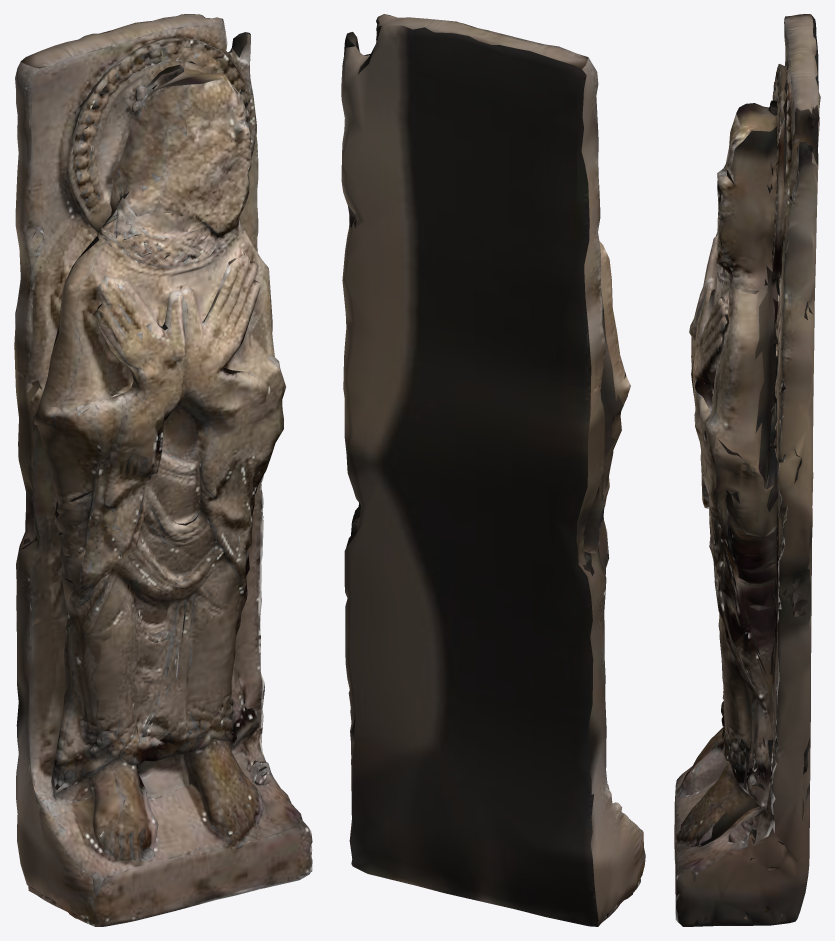
The picture shows the model from 3 angles, left to right: view 1: azimuth 30°, elevation 25°; view 2: azimuth 150°, elevation 25°; view 3: azimuth 270°, elevation 25°; orthographic projection. The views are drawn at different scales.
Visible parts, largest first — view 1: Mesh; view 2: Mesh; view 3: Mesh.
Part boxes in pixels (x1,y1,x2,y2): Mesh: [14, 14, 312, 926]; Mesh: [341, 14, 645, 926]; Mesh: [674, 14, 820, 926].
Size of the model in its own units: 0.2625 by 0.8591 by 0.1402.
Materials: 1 (1 with a texture image).
